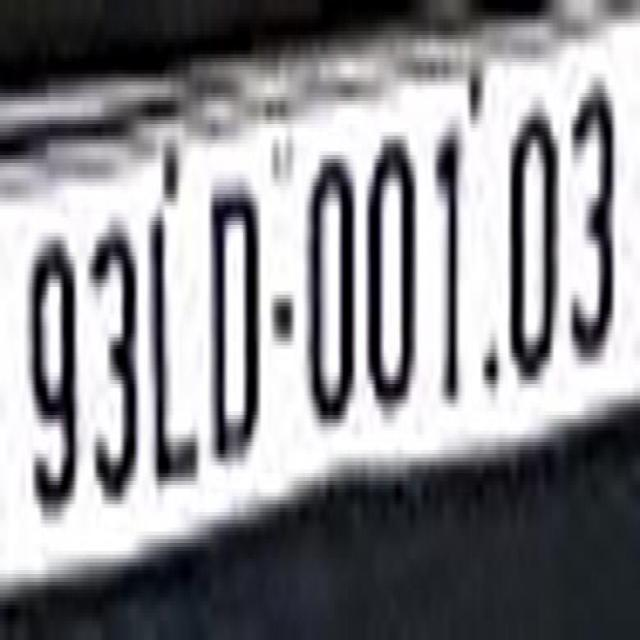0: (502, 78, 563, 380), (303, 136, 361, 434), (364, 120, 418, 427)
1: (431, 101, 467, 407)
3: (86, 210, 144, 504), (568, 70, 618, 376)
9: (25, 232, 78, 520)
D: (207, 159, 266, 465)
L: (147, 210, 201, 504)
